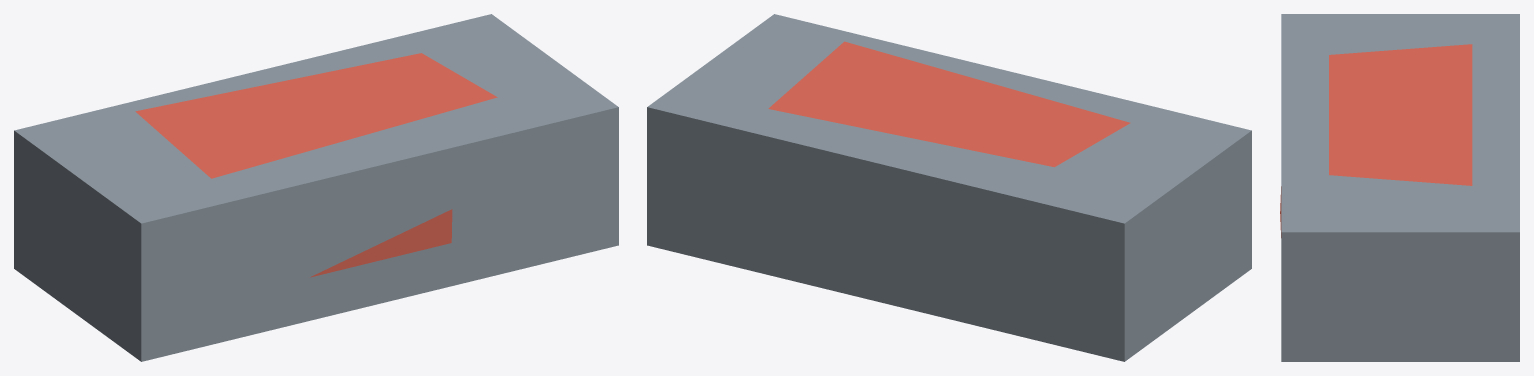
Rendered from SU_GromadaAirship_LOD1.glb.
3 renders of one model, left to right at view 1: azimuth 30°, elevation 25°; view 2: azimuth 150°, elevation 25°; view 3: azimuth 270°, elevation 25°, orthographic. The views are drawn at different scales.
Parts seen in each view (by area): view 1: EntranceGate; view 2: EntranceGate; view 3: EntranceGate.
Boxes of the visible parts, x1,y1,x2,y2 form: EntranceGate: (14,14,618,361); EntranceGate: (647,14,1251,361); EntranceGate: (1280,14,1519,361).
Bounding box in the file's own units: 1300 × 398 × 603.
